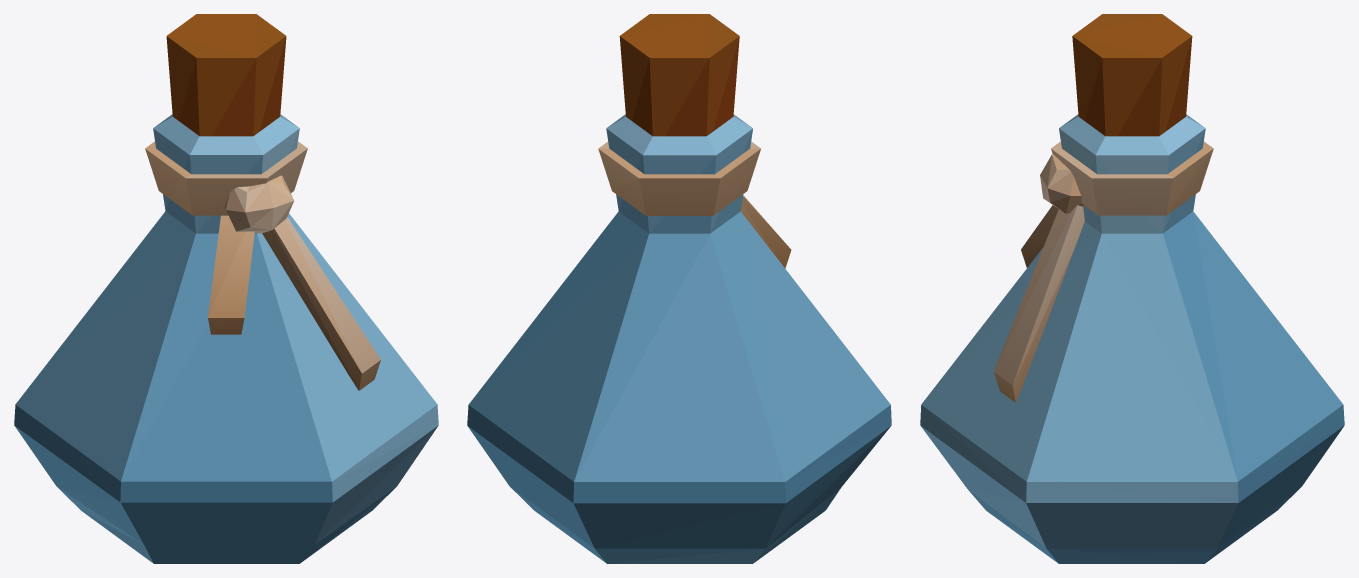
The model's file is prop_bottle_potion_empty_3.fbx.
3 views of the same model, side by side, from view 1: azimuth 30°, elevation 25°; view 2: azimuth 150°, elevation 25°; view 3: azimuth 270°, elevation 25° (orthographic).
Visible parts, largest first — view 1: prop_bottle_potion_empty_3; view 2: prop_bottle_potion_empty_3; view 3: prop_bottle_potion_empty_3.
Part boxes in pixels (box(x1,y1,x2,y2)): prop_bottle_potion_empty_3: box(14, 14, 438, 563); prop_bottle_potion_empty_3: box(467, 14, 891, 563); prop_bottle_potion_empty_3: box(920, 14, 1344, 563).
Bounding box in the file's own units: 0.6352 × 0.9043 × 0.733.
